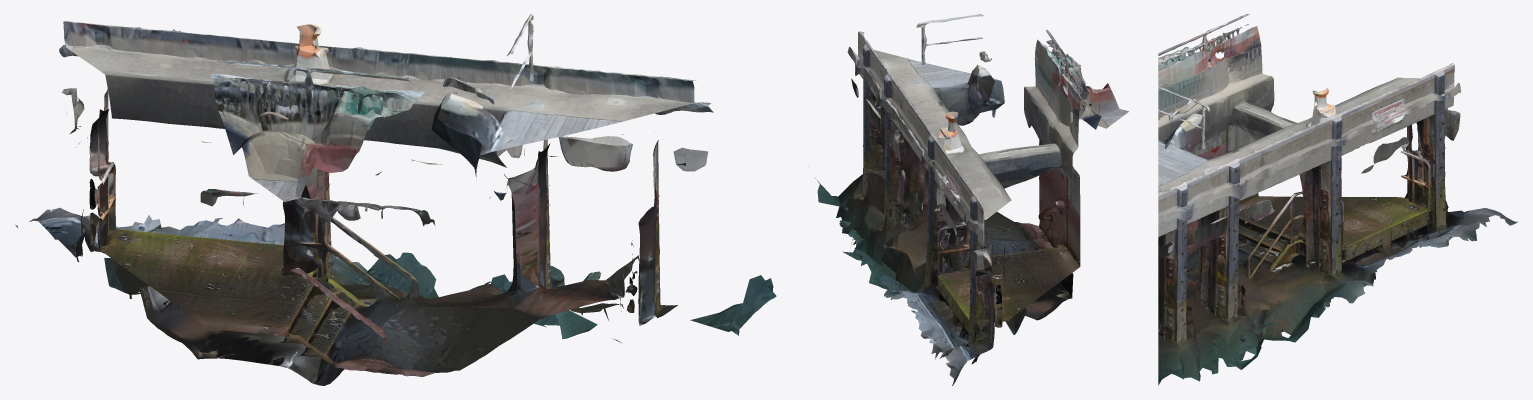
The picture shows the model from 3 angles, left to right: view 1: azimuth 30°, elevation 25°; view 2: azimuth 150°, elevation 25°; view 3: azimuth 270°, elevation 25°; orthographic projection. The views are drawn at different scales.
Bounding box in the file's own units: 8.07 × 5.64 × 7.68.
Materials: 5 (5 with a texture image).
